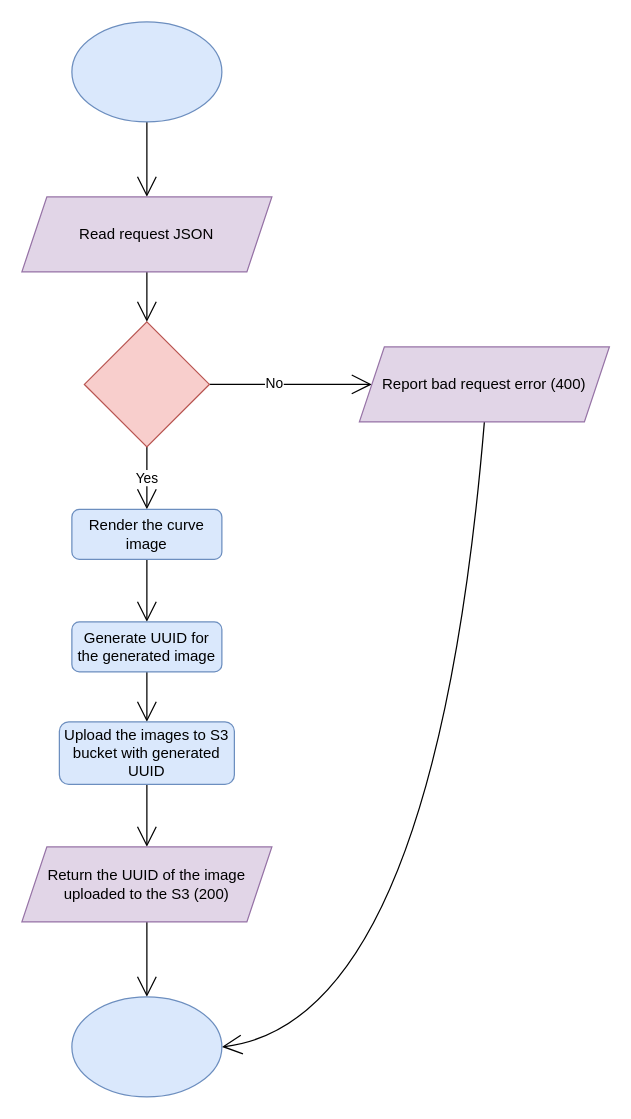
This 631x1119 diagram has some shape labels left out. The shapes that lost their labels are listed below. From the top down, each one's centre as x and y in pixels, then its label:
point 146,71: Start
point 146,384: Is request valid
point 146,1046: Stop
